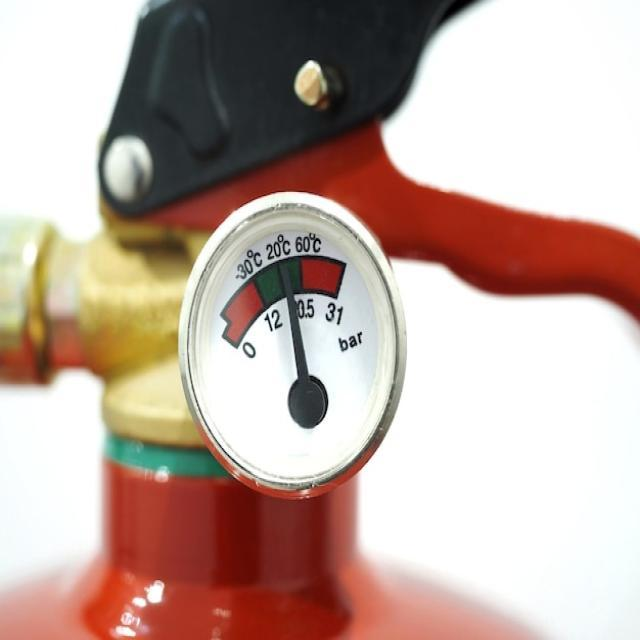pressure gauge: (178, 193, 405, 496)
